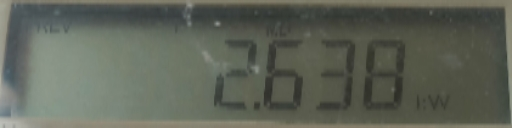2: (212, 39, 253, 119)
3: (318, 35, 355, 112)
5: (264, 31, 305, 111)
8: (361, 34, 407, 113)
d: (249, 95, 263, 116)
